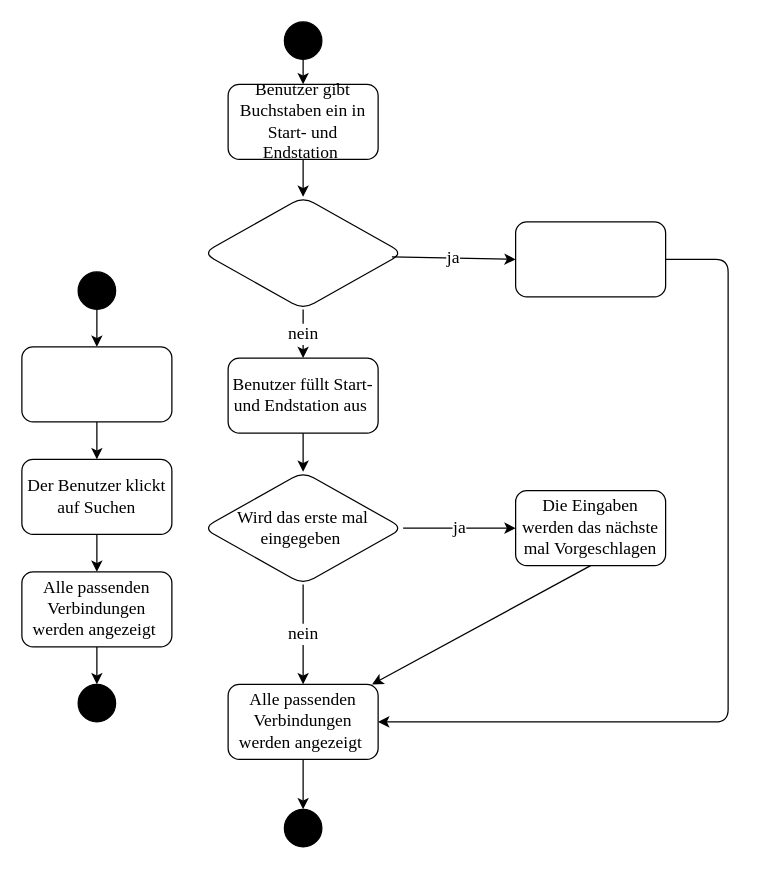
Some shapes in this 760 by 869 pixel diagram are drawn without their labels. The centre of each missing label's shape, as x and y in pixels:
Benutzer füllt die Felder aus: point 96,384
Buchstaben treffen auf einen Vorschlag zu: point 302,252
Die Daten werden Vorgeschlagen und angenommen vom Benutzer: point 590,259
